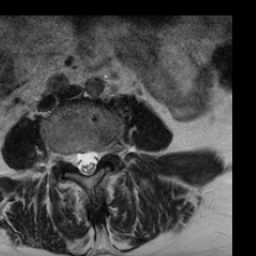CCS_normal: (82, 141, 91, 183)
LFS_stenosis: (99, 134, 108, 162)
LLS_normal: (91, 140, 99, 176)
RFS_normal: (61, 141, 71, 171)
RLS_normal: (71, 142, 82, 176)
